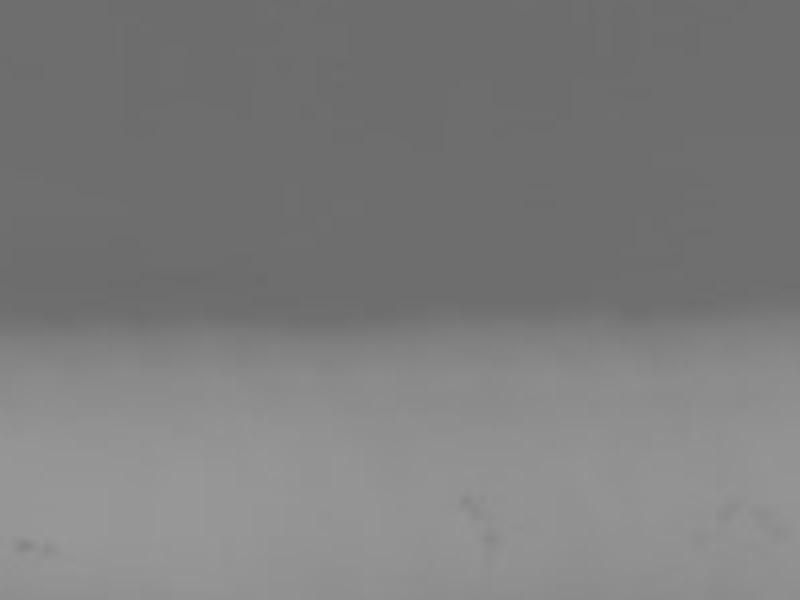defect: (749, 504, 777, 526), (714, 500, 736, 523), (463, 494, 482, 519), (692, 527, 708, 547), (482, 533, 497, 553)
